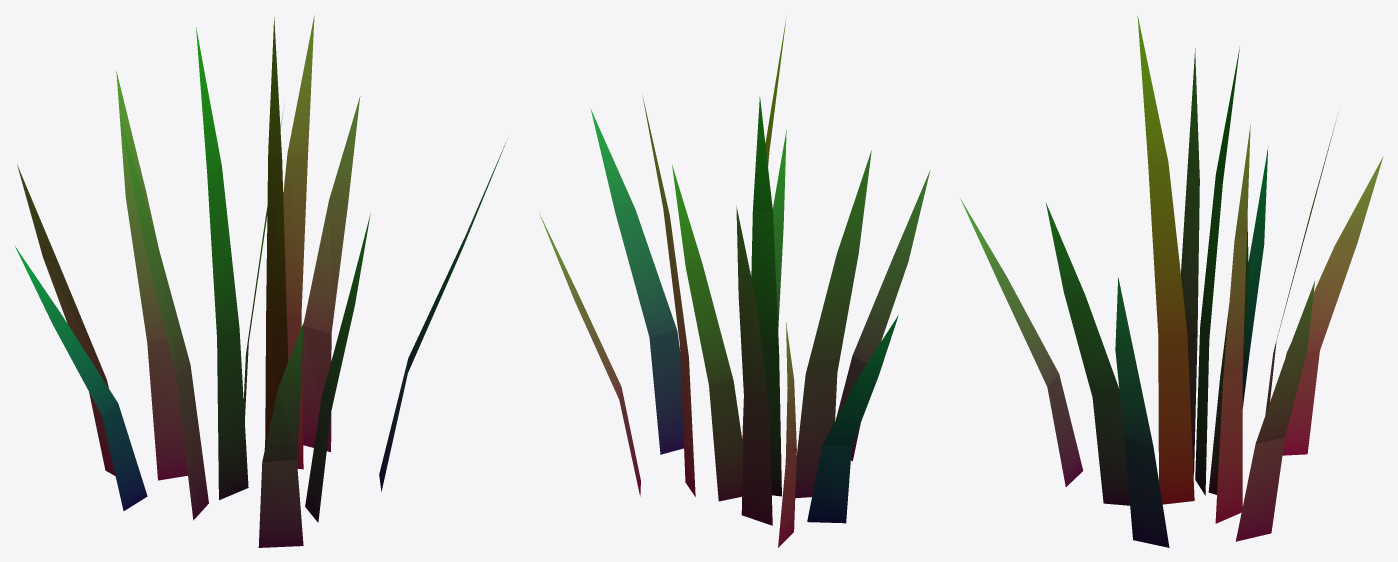
The model's file is SM_GrassCluster_A.fbx.
3 renders of one model, left to right at view 1: azimuth 30°, elevation 25°; view 2: azimuth 150°, elevation 25°; view 3: azimuth 270°, elevation 25°, orthographic. The views are drawn at different scales.
Visible parts, largest first — view 1: SM_GrassCluster_A; view 2: SM_GrassCluster_A; view 3: SM_GrassCluster_A.
Boxes of the visible parts, x1,y1,x2,y2 form: SM_GrassCluster_A: (15, 14, 507, 547); SM_GrassCluster_A: (539, 16, 930, 547); SM_GrassCluster_A: (960, 16, 1383, 547).
Size of the model in its own units: 0.4488 by 0.515 by 0.415.
